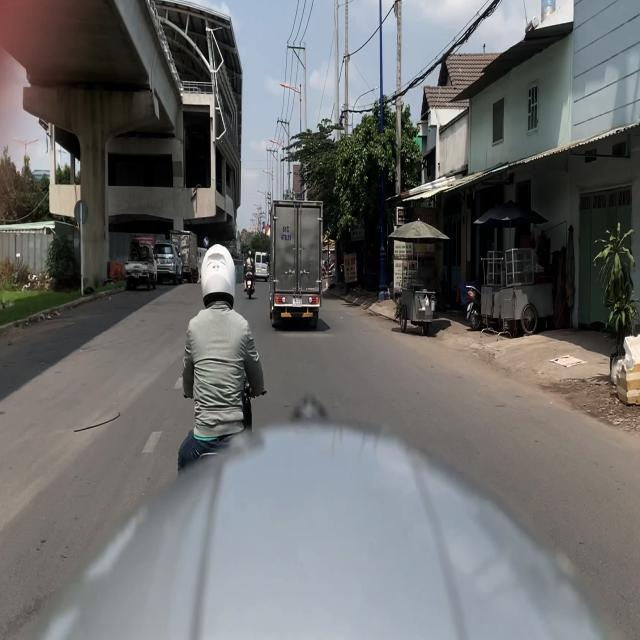Hieu lenh: (203, 236, 209, 247)
